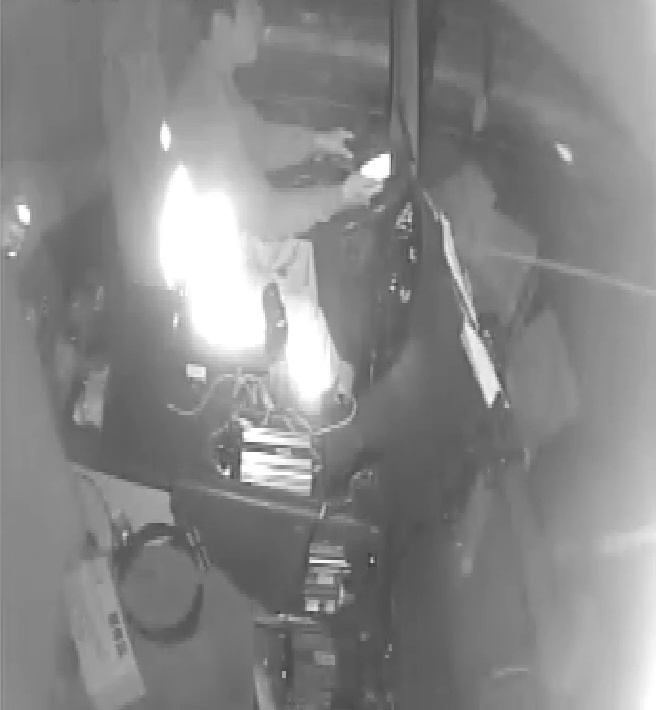cellphone: (350, 150, 395, 192)
